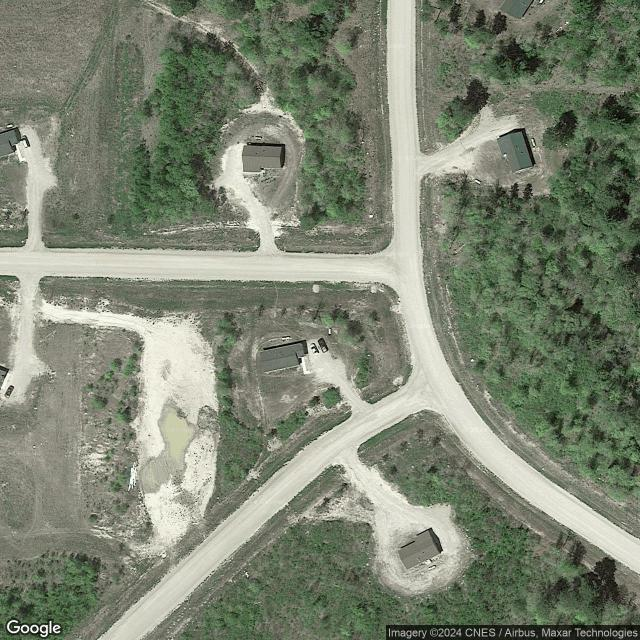Propane: (427, 564, 437, 572), (473, 178, 483, 186), (281, 334, 291, 341), (530, 137, 537, 147), (5, 122, 14, 129), (327, 327, 332, 336), (255, 135, 263, 140)
